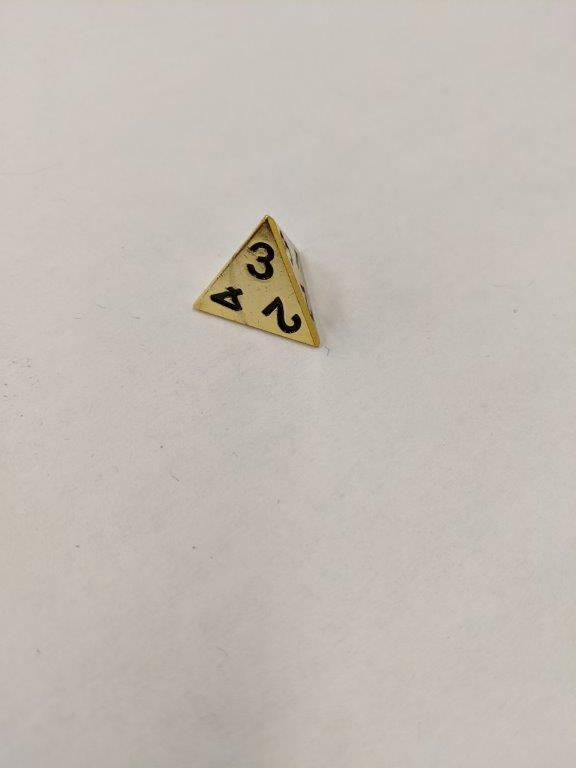d4-3: (192, 209, 326, 354)
